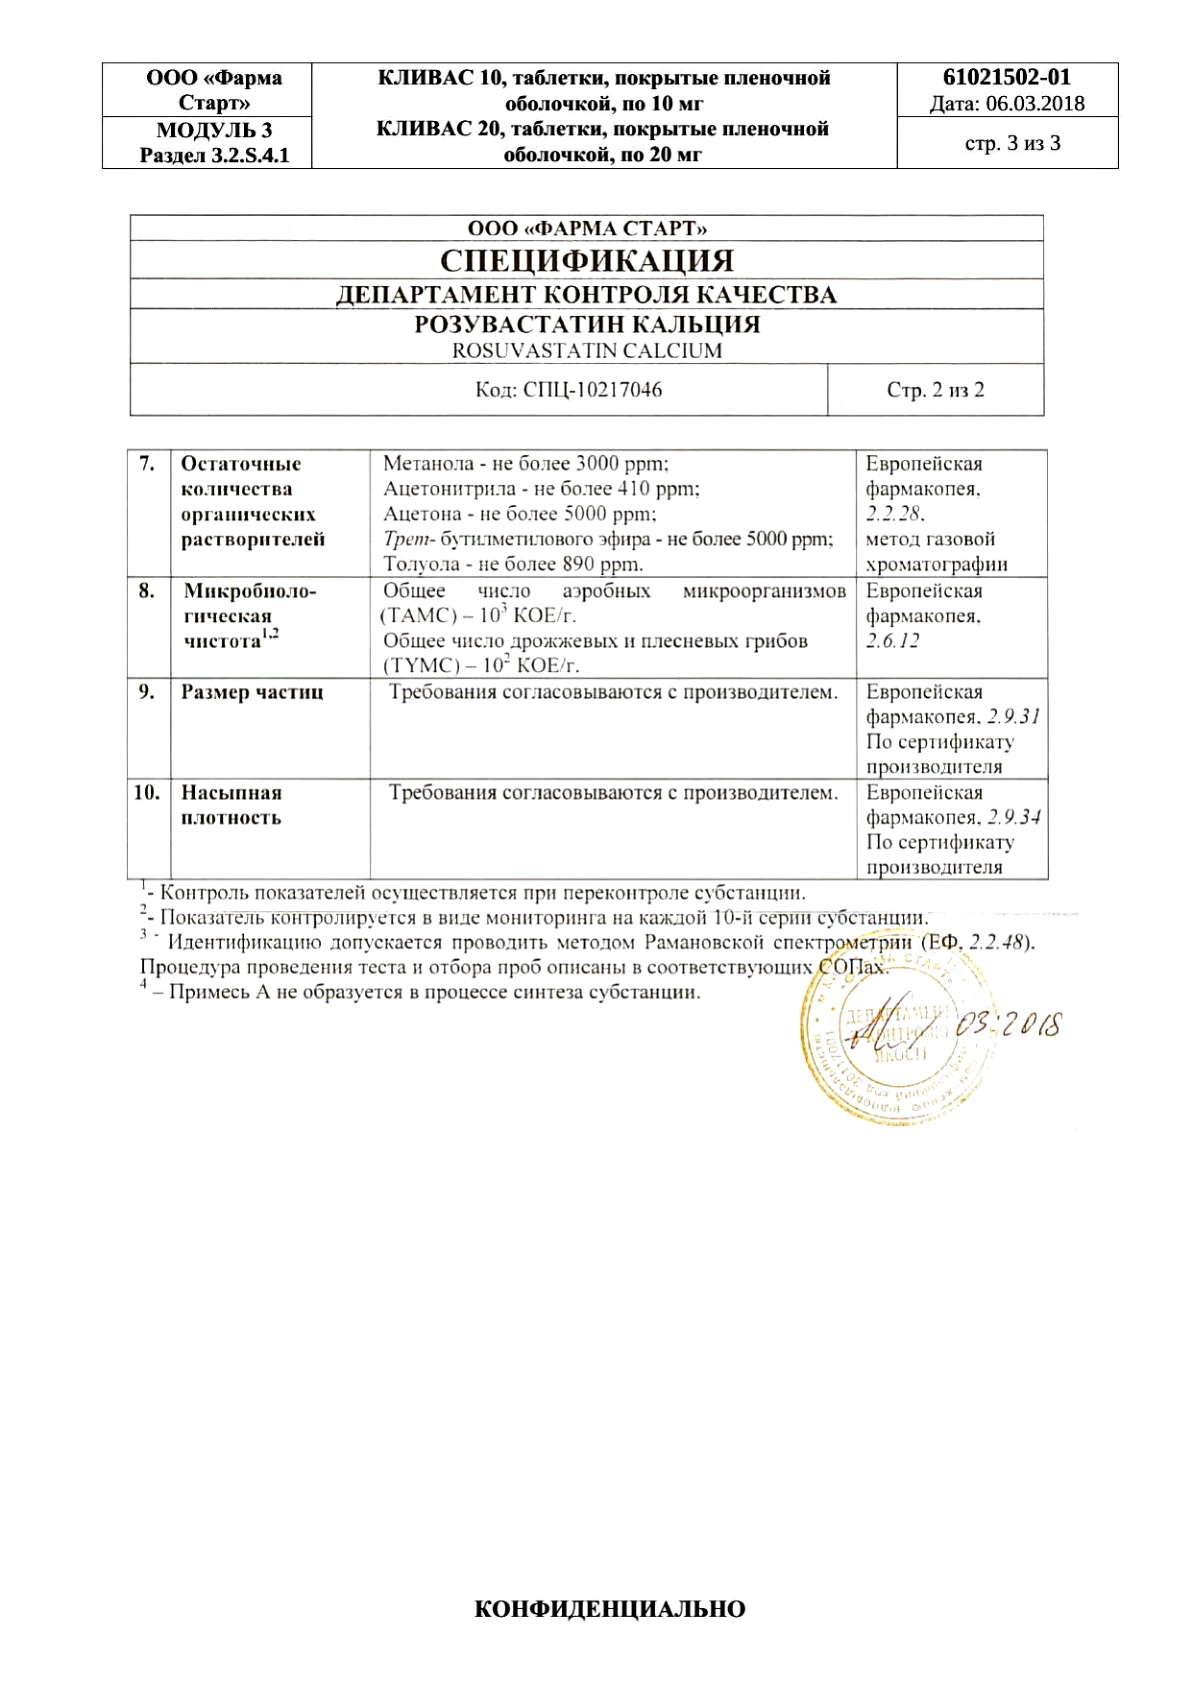full_lined: (127, 447, 1050, 881)
merged_cells: (129, 213, 1046, 417), (101, 61, 1119, 170)
